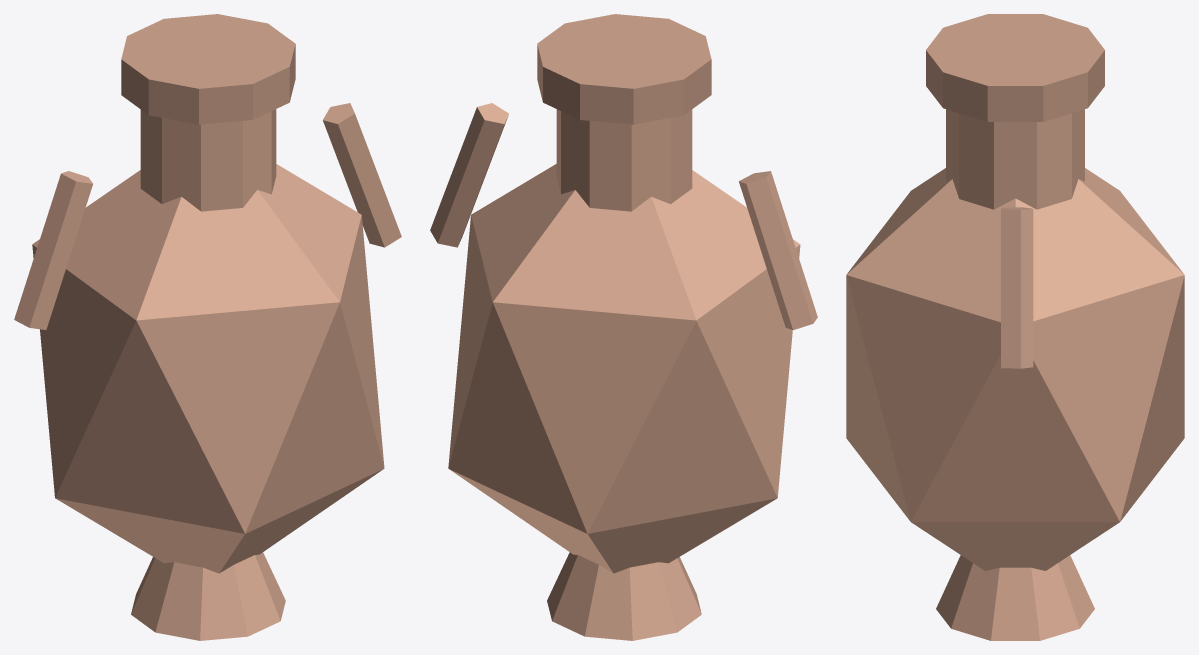
File: jar.glb
3 views of the same model, side by side, from view 1: azimuth 30°, elevation 25°; view 2: azimuth 150°, elevation 25°; view 3: azimuth 270°, elevation 25° (orthographic).
Visible parts, largest first — view 1: jar; view 2: jar; view 3: jar.
Part boxes in pixels (x1,y1,x2,y2): jar: (14,14,401,640); jar: (430,14,817,640); jar: (846,14,1184,640).
Bounding box in the file's own units: 0.4469 × 0.62 × 0.3403.
